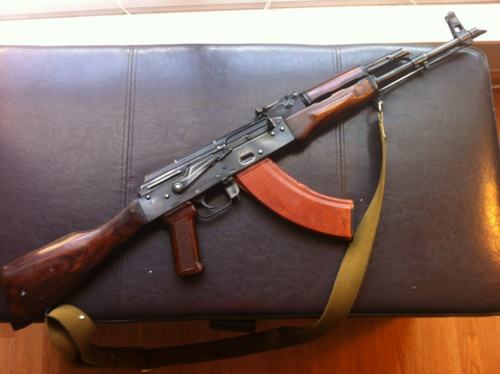ak47: (6, 9, 483, 322)
